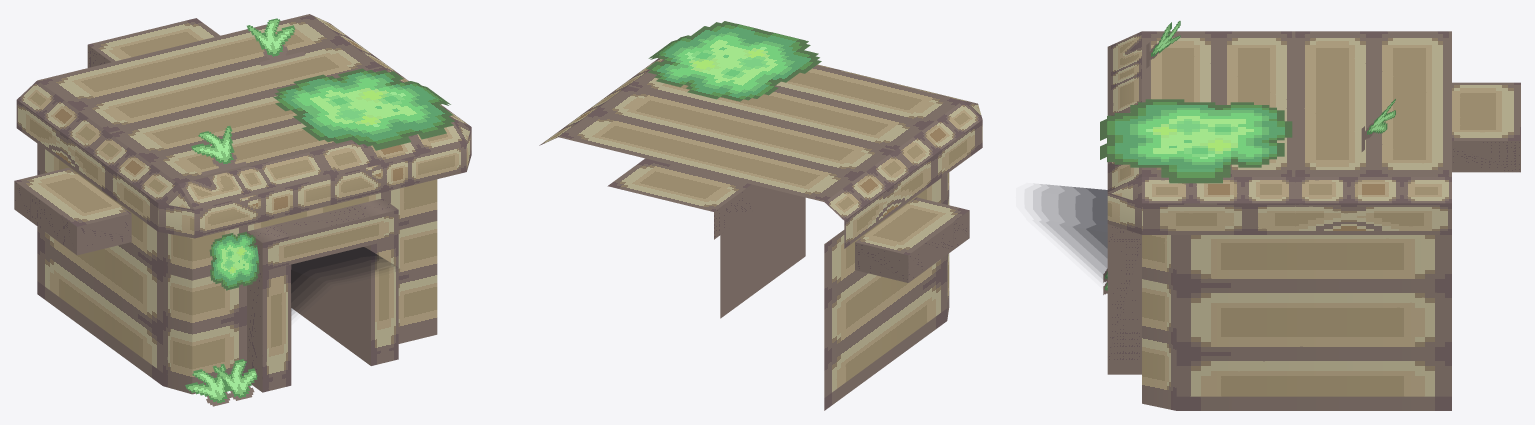
The picture shows the model from 3 angles, left to right: view 1: azimuth 30°, elevation 25°; view 2: azimuth 150°, elevation 25°; view 3: azimuth 270°, elevation 25°; orthographic projection. The views are drawn at different scales.
Bounding box in the file's own units: 6.5 × 4.25 × 7.4.
Materials: 4 (4 with a texture image).
